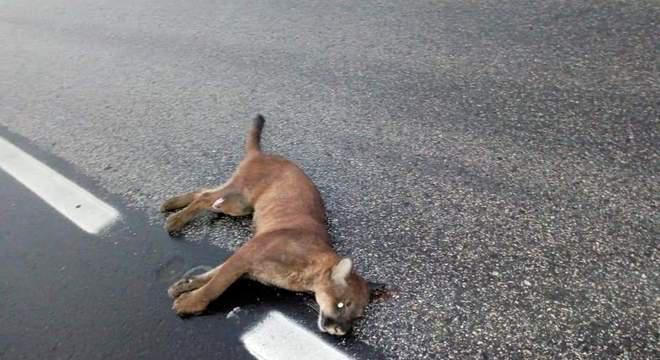OncaParda: (159, 110, 380, 354)
